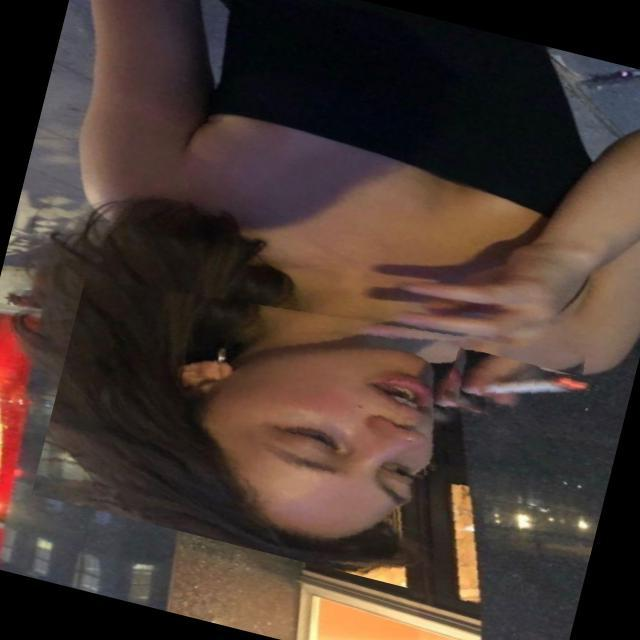cigarette: (441, 346, 594, 442)
